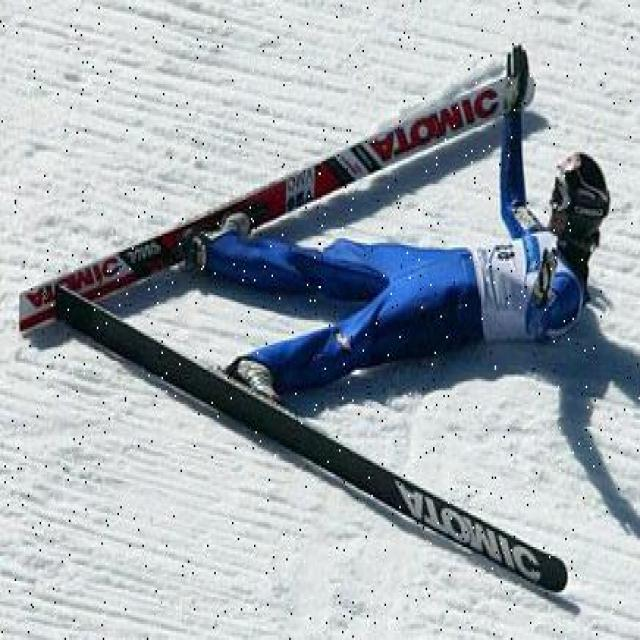fall: (222, 128, 618, 384)
